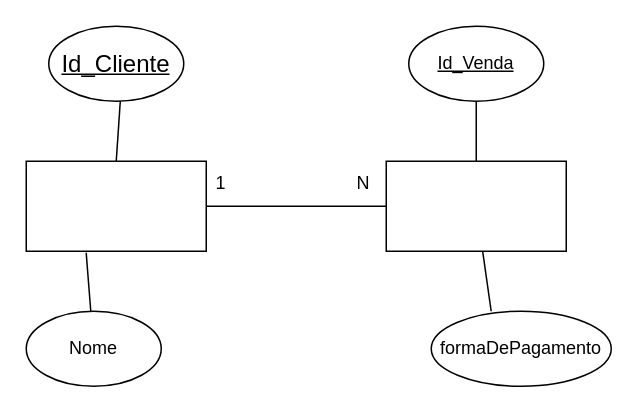
This 638x413 diagram has some shape labels left out. The centre of each missing label's shape, as x and y in pixels:
Cliente: the point at 115,205
Venda: the point at 475,205
